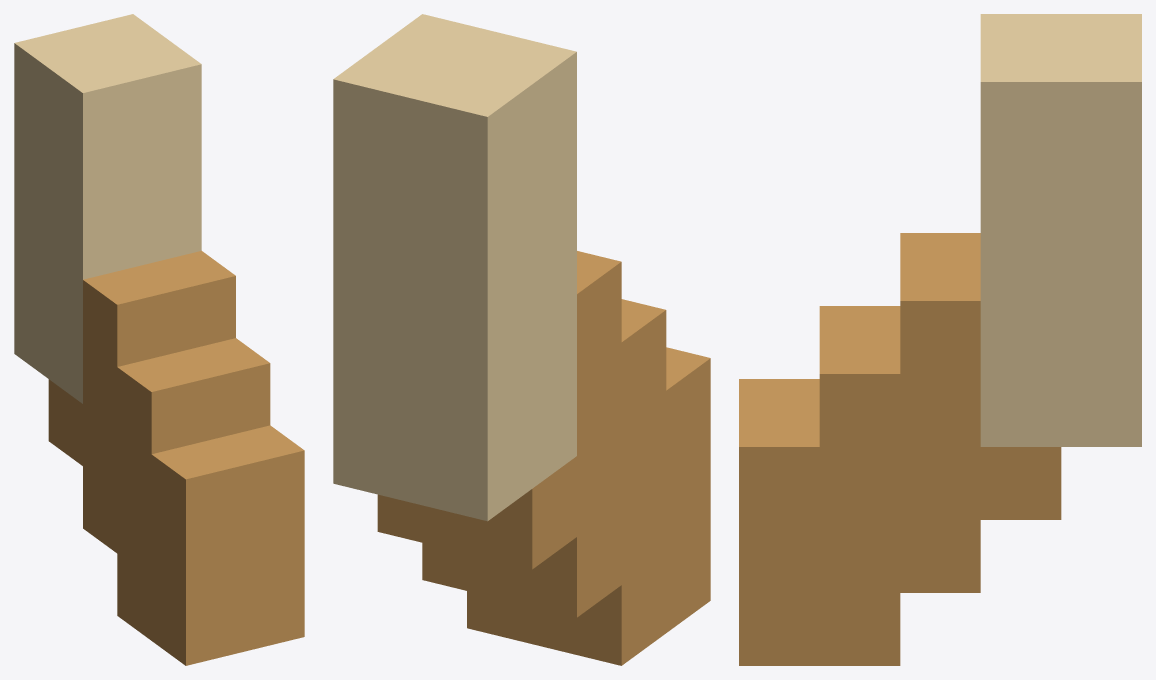
Rendered from dog__tail.glb.
The picture shows the model from 3 angles, left to right: view 1: azimuth 30°, elevation 25°; view 2: azimuth 150°, elevation 25°; view 3: azimuth 270°, elevation 25°; orthographic projection. The views are drawn at different scales.
Parts seen in each view (by area): view 1: dog__tail; view 2: dog__tail; view 3: dog__tail.
Part boxes in pixels (bbox=[...]): dog__tail: bbox=[14, 14, 304, 665]; dog__tail: bbox=[333, 14, 710, 665]; dog__tail: bbox=[739, 14, 1141, 665].
Size of the model in its own units: 0.2 by 0.8 by 0.5.
Materials: 1 (1 with a texture image).
